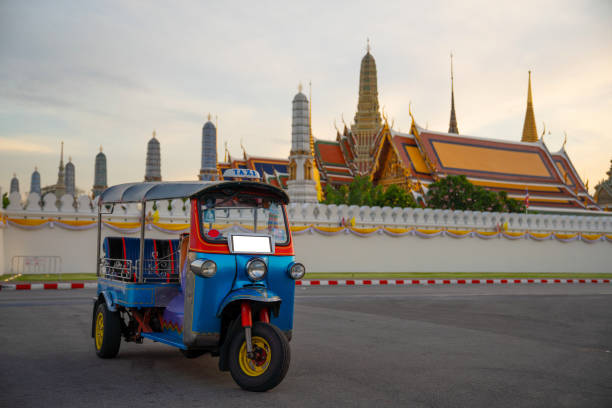threewheel: (92, 180, 306, 393)
